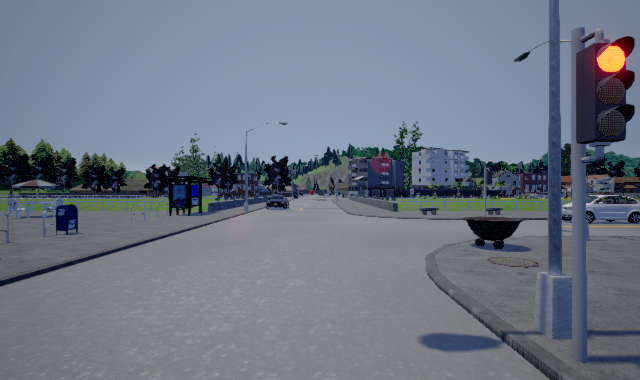traffic_light: (576, 28, 635, 163)
vehicle: (560, 194, 640, 223), (266, 195, 289, 209)
